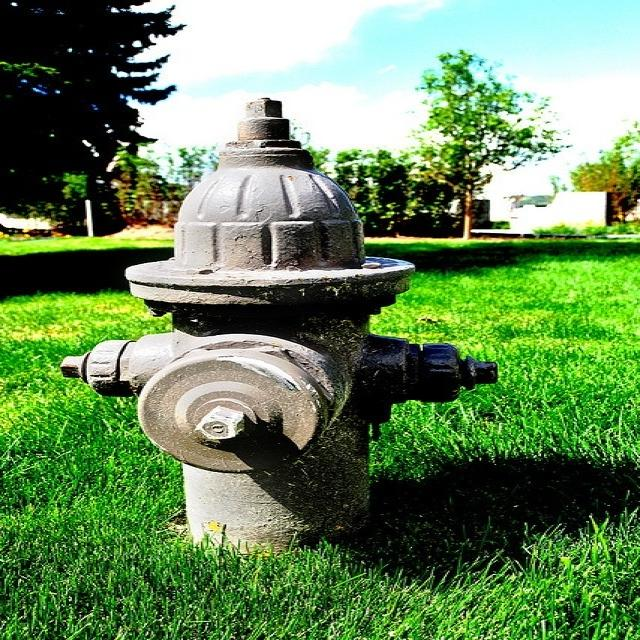fire_hydrant: (99, 69, 456, 554)
